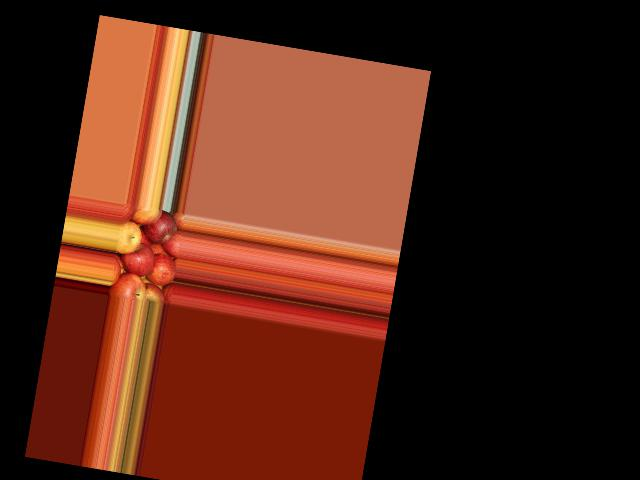apple: (144, 249, 177, 288)
